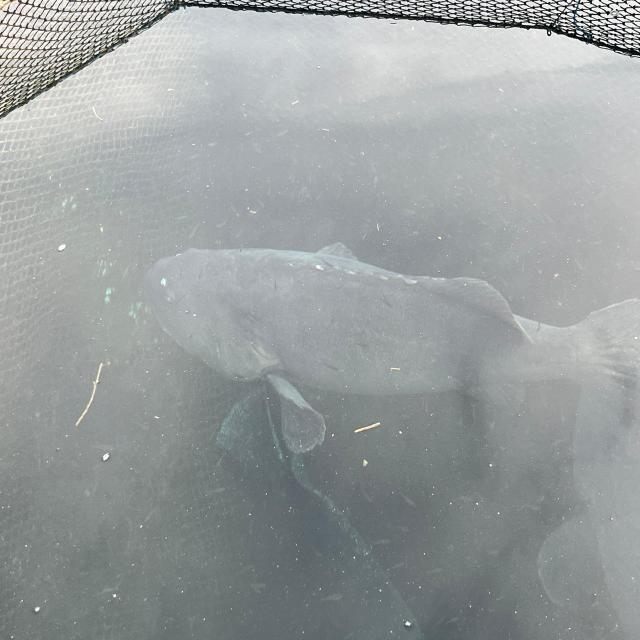ikan: (128, 223, 583, 470)
